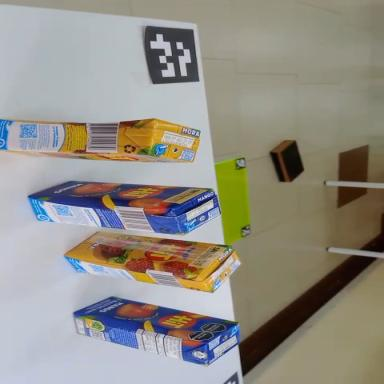HIT-MANGO: (68, 289, 241, 371), (27, 178, 221, 236)
HIT-MORA: (62, 227, 242, 295), (0, 118, 199, 162)
cara_F: (73, 289, 239, 349), (64, 227, 229, 279), (28, 178, 212, 211), (2, 150, 192, 163)
